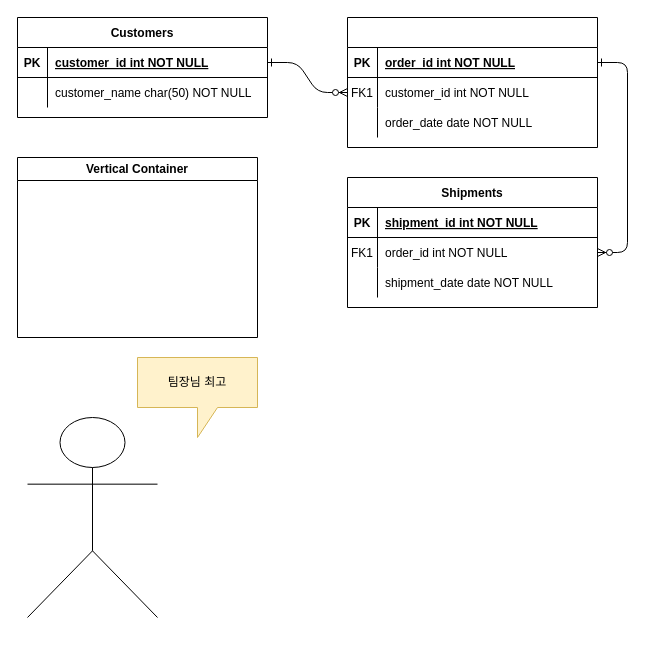
The diagram is 654 pixels wide and 656 high, and some of its shapes have lost their labels. Each missing label, with the box of its shape:
Actor: (26, 416, 158, 618)
Orders: (346, 16, 598, 148)
